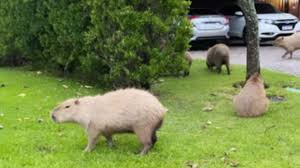capivara: (51, 88, 168, 155), (234, 73, 270, 117), (206, 43, 232, 76), (273, 32, 300, 61)
